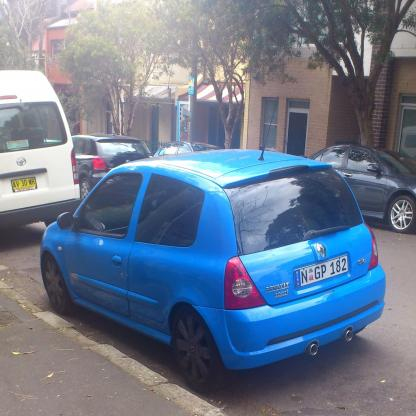Car: (41, 99, 387, 397), (306, 148, 416, 234), (73, 136, 154, 200), (156, 142, 222, 156)
